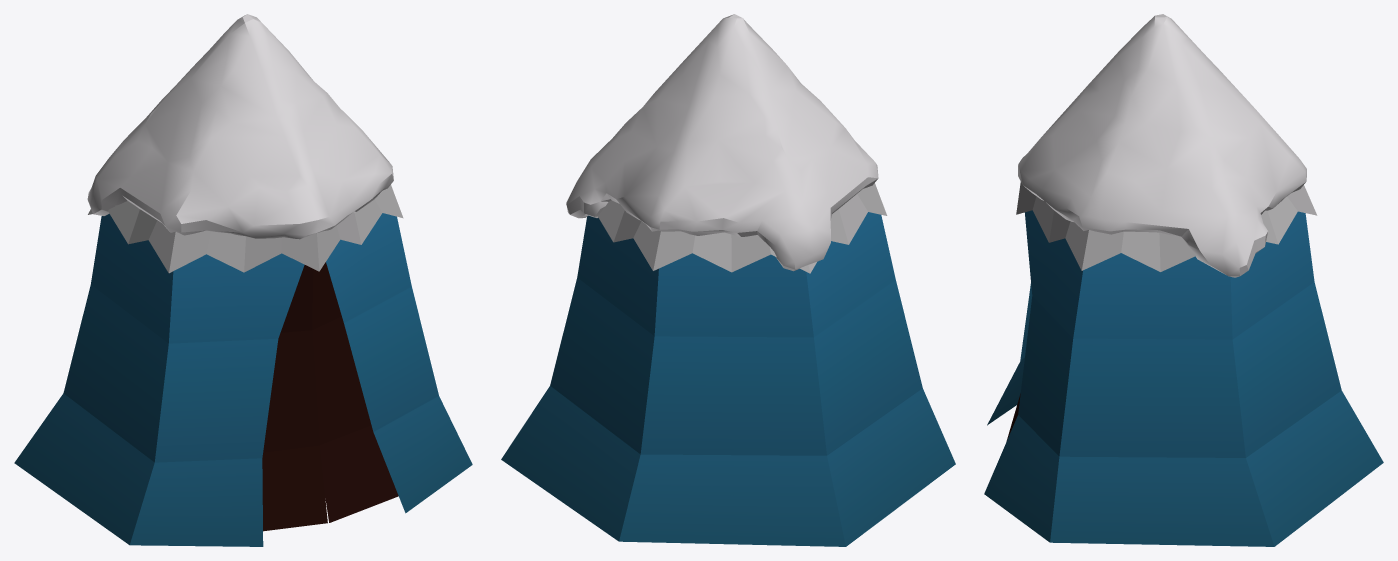
The model's file is CampSnowy_2.fbx.
3 views of the same model, side by side, from view 1: azimuth 30°, elevation 25°; view 2: azimuth 150°, elevation 25°; view 3: azimuth 270°, elevation 25° (orthographic).
Parts seen in each view (by area): view 1: CampSnowy_2; view 2: CampSnowy_2; view 3: CampSnowy_2.
Boxes of the visible parts, x1,y1,x2,y2 form: CampSnowy_2: [14, 14, 472, 546]; CampSnowy_2: [501, 14, 955, 546]; CampSnowy_2: [984, 14, 1383, 546].
Size of the model in its own units: 190 by 232 by 189.
